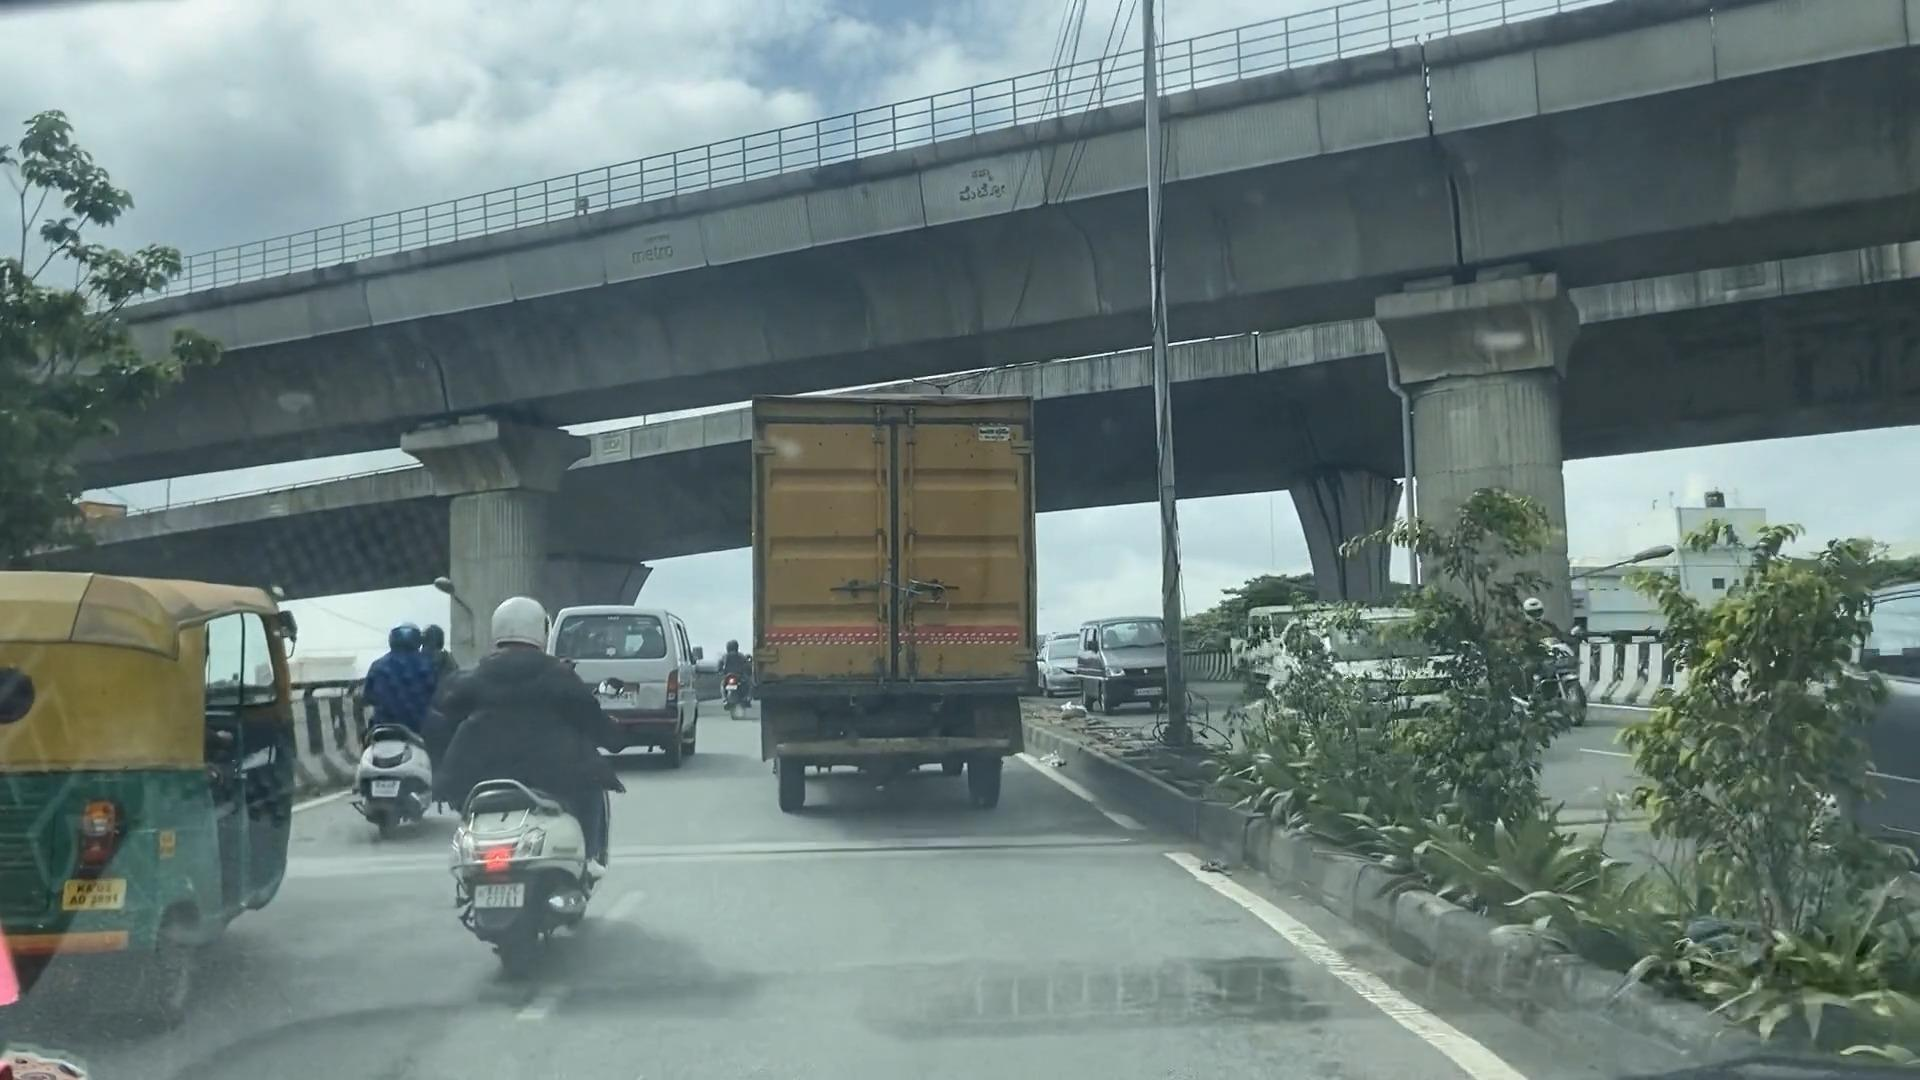HMV: (744, 390, 1027, 796)
LMV: (443, 600, 588, 930)
